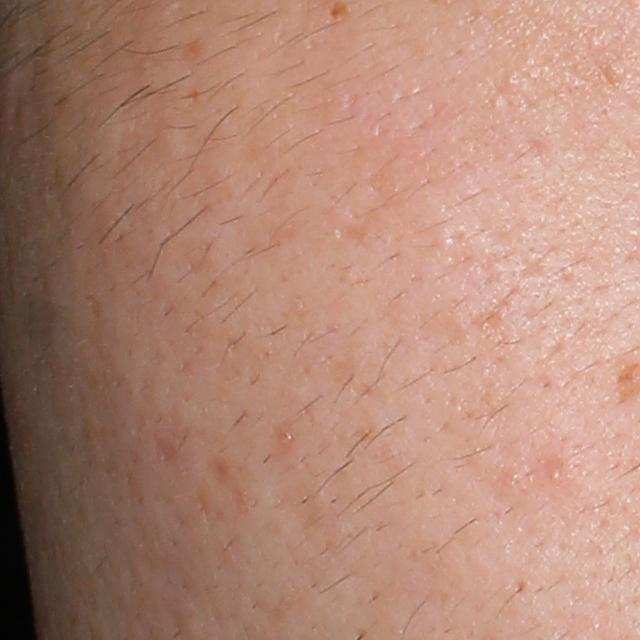comedo: (545, 468, 565, 484)
